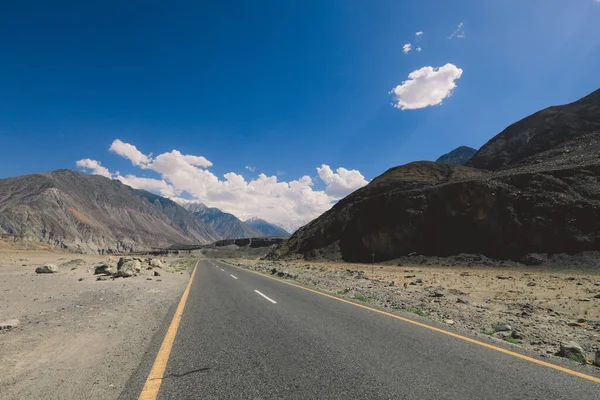straightRoad: (175, 252, 319, 375)
